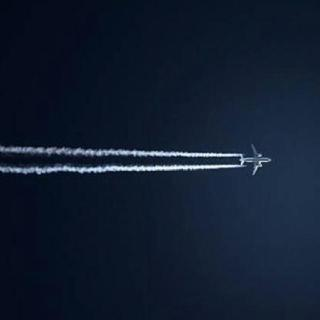Contrails: (0, 129, 244, 184)
